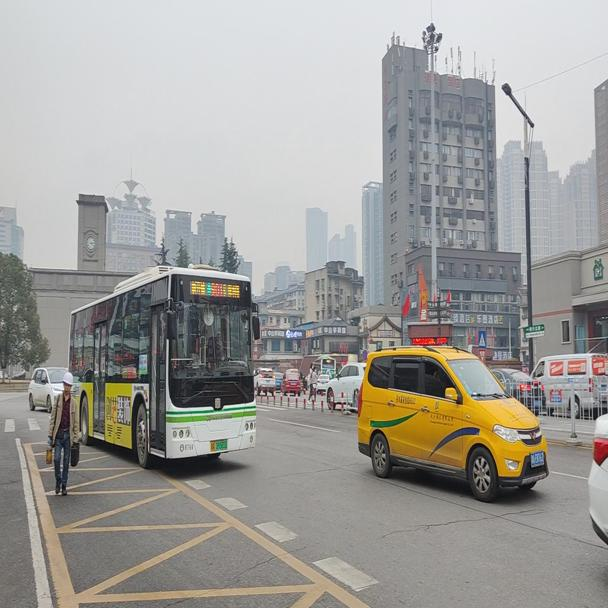bus: (66, 261, 261, 468)
screen: (211, 282, 222, 297)
